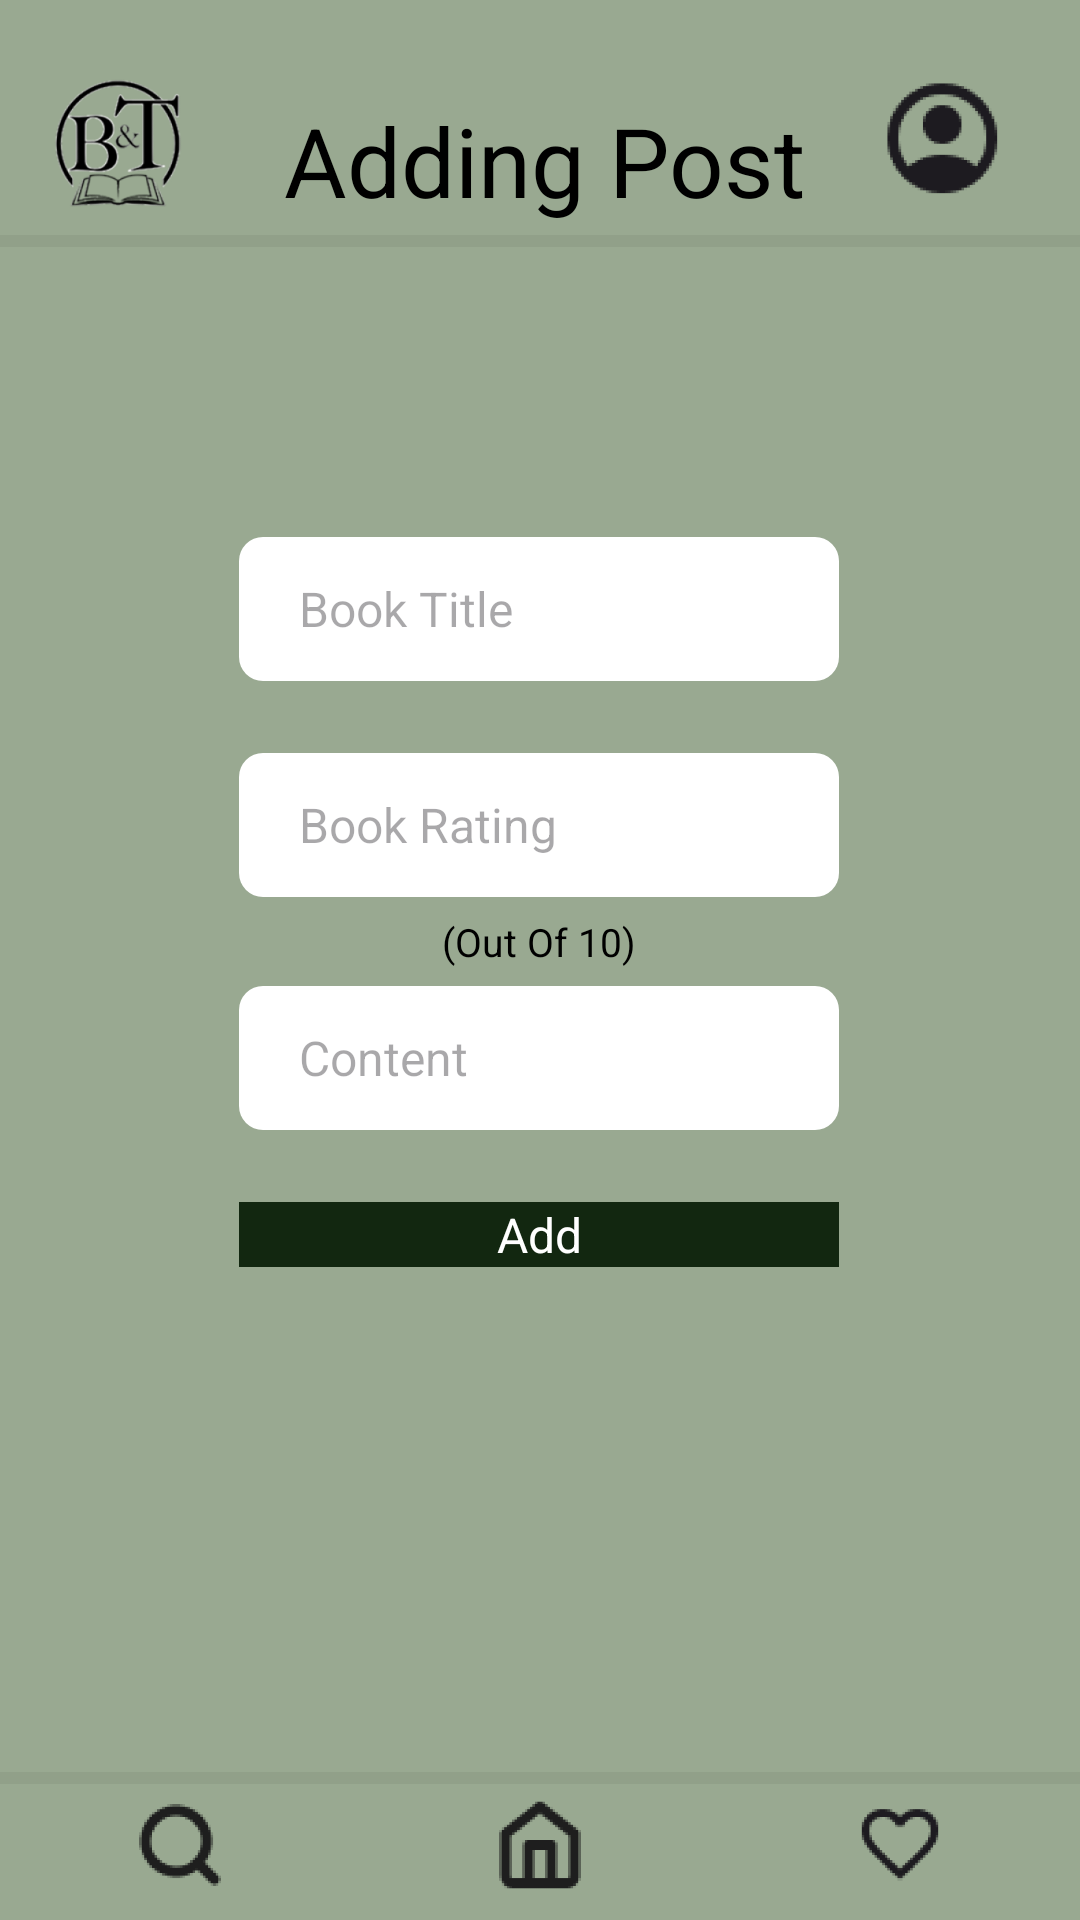

Icon click points for this 1080 × 1920 phone screenshot, format (x,y):
fav: (900,1844)
home: (540,1845)
search: (180,1845)
user: (942,138)
